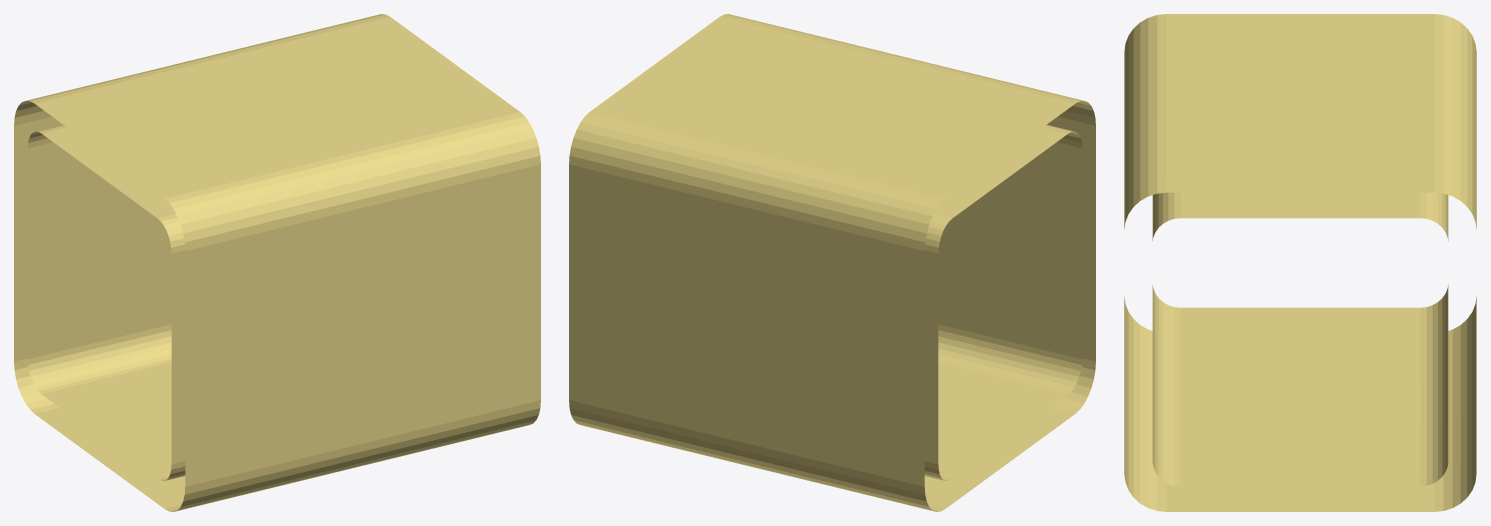
The model's file is RailLeft_11.obj.
The picture shows the model from 3 angles, left to right: view 1: azimuth 30°, elevation 25°; view 2: azimuth 150°, elevation 25°; view 3: azimuth 270°, elevation 25°; orthographic projection. The views are drawn at different scales.
Parts seen in each view (by area): view 1: RailLeft_11_14; view 2: RailLeft_11_14; view 3: RailLeft_11_14.
Boxes of the visible parts, x1=… form: RailLeft_11_14: x1=14, y1=14, x2=540, y2=511; RailLeft_11_14: x1=569, y1=14, x2=1095, y2=511; RailLeft_11_14: x1=1124, y1=14, x2=1476, y2=511.
Bounding box in the file's own units: 0.03 × 0.025 × 0.025.
